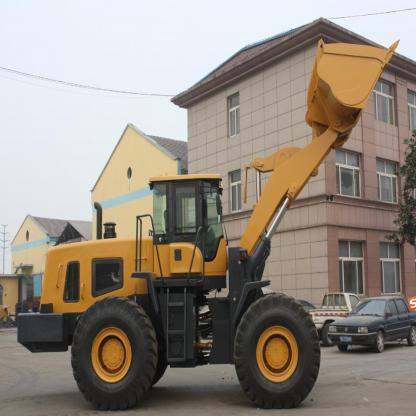bull_dozer/loader/grader: (17, 32, 401, 412)
